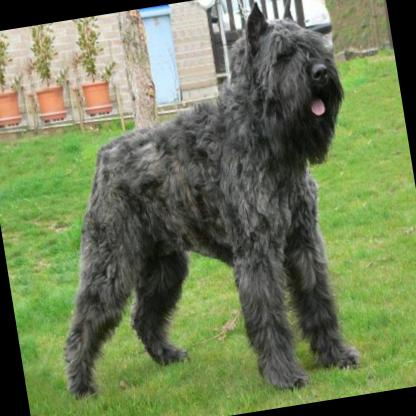Bouvier_des_Flandres: (6, 0, 387, 416)
